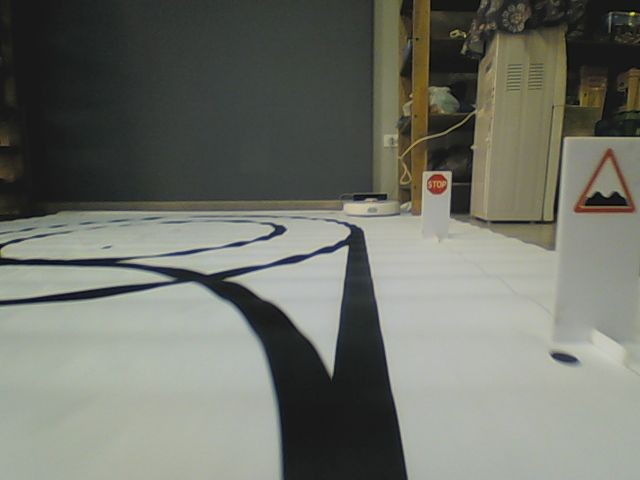Nerov: (572, 147, 634, 215)
Stop: (426, 172, 448, 196)
